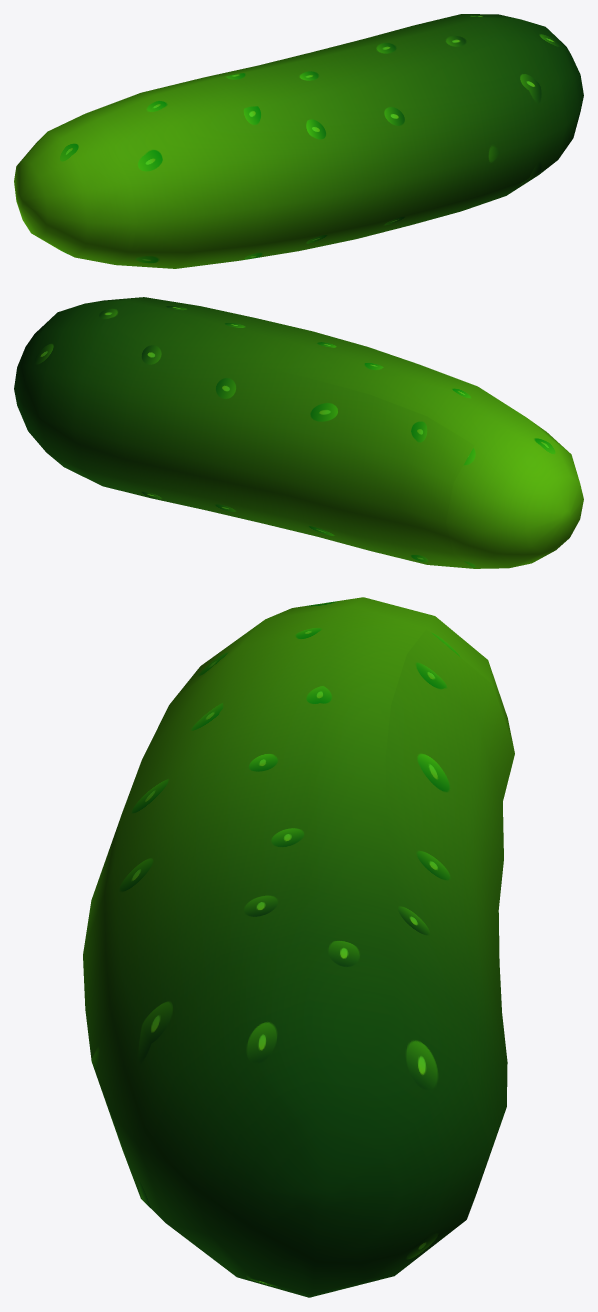
The model's file is Cucumber.fbx.
The picture shows the model from 3 angles, top to bottom: view 1: azimuth 30°, elevation 25°; view 2: azimuth 150°, elevation 25°; view 3: azimuth 270°, elevation 25°; orthographic projection. The views are drawn at different scales.
Parts seen in each view (by area): view 1: Cucumber; view 2: Cucumber; view 3: Cucumber.
Boxes of the visible parts, <box> form: Cucumber: <box>14,14,583,268</box>; Cucumber: <box>14,297,583,568</box>; Cucumber: <box>83,597,514,1297</box>.
Bounding box in the file's own units: 21.86 × 6.78 × 7.59.
